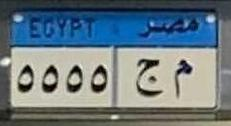5: (89, 63, 112, 93), (40, 63, 60, 94), (67, 63, 86, 94), (17, 63, 34, 93)
jeem: (133, 56, 162, 100)
meem: (171, 56, 197, 101)
